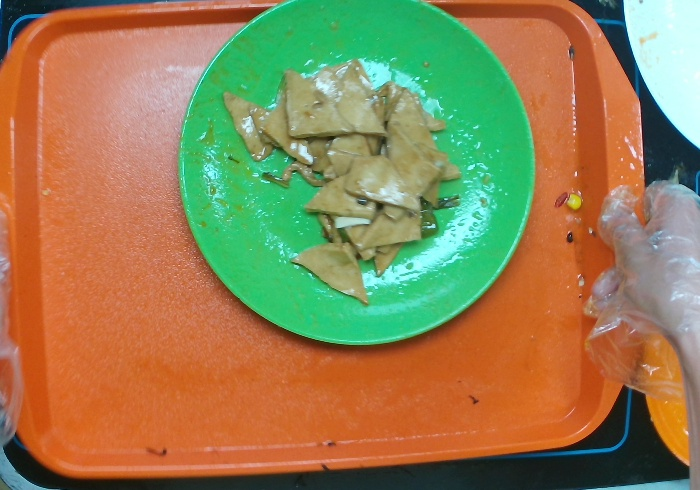HZYJPL-Lv_Se_Yuan_Pan: (176, 1, 537, 349)
